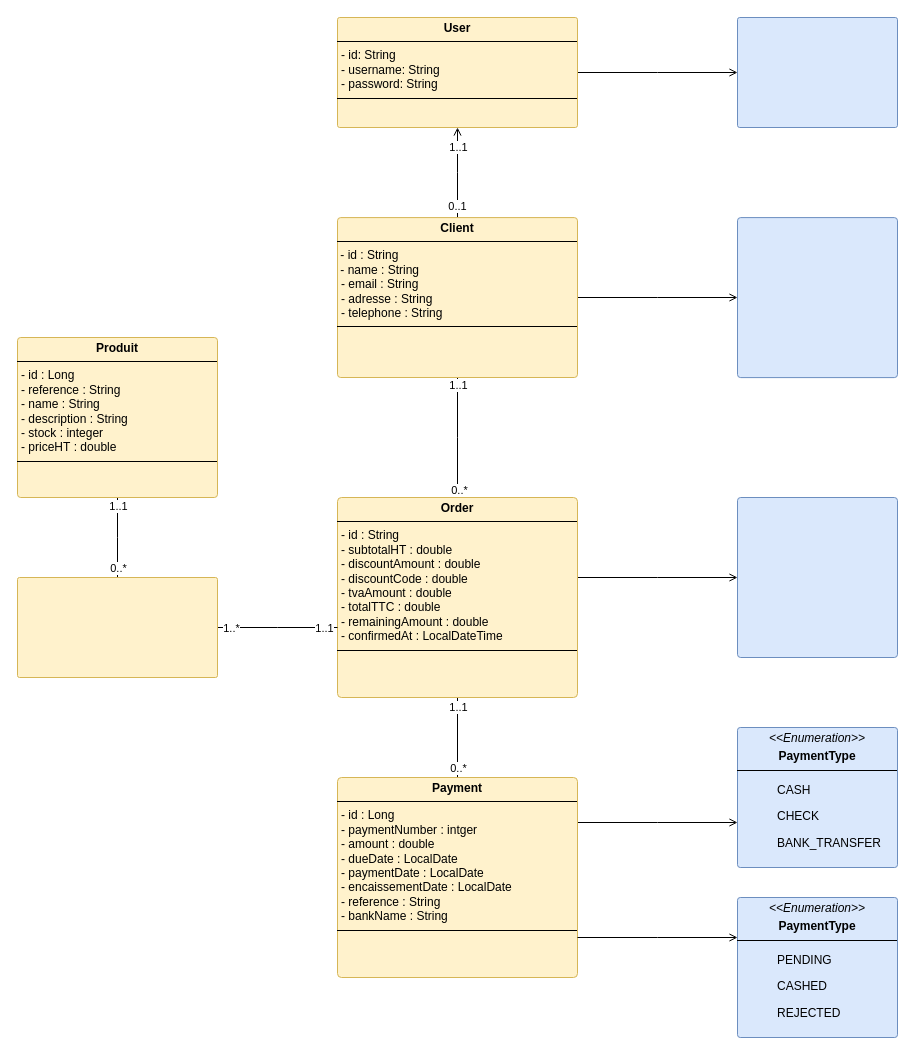
The diagram is 915 pixels wide and 1055 high, and some of its shapes have lost their labels. Each missing label, with the centre of its shape:
<<Enumeration>> CustomerTier BASIC SILVER GOLD PLATINUM: (x=817, y=297)
<<Enumeration>> OrderStatus PENDING CONFIRMED CANCELED REJECTED: (x=817, y=577)
<<Enumeration>> Role CLIENT ADMIN: (x=817, y=72)
OrderItem - id : Long - quantity : integer - unitPriceHT : double: (x=117, y=627)
